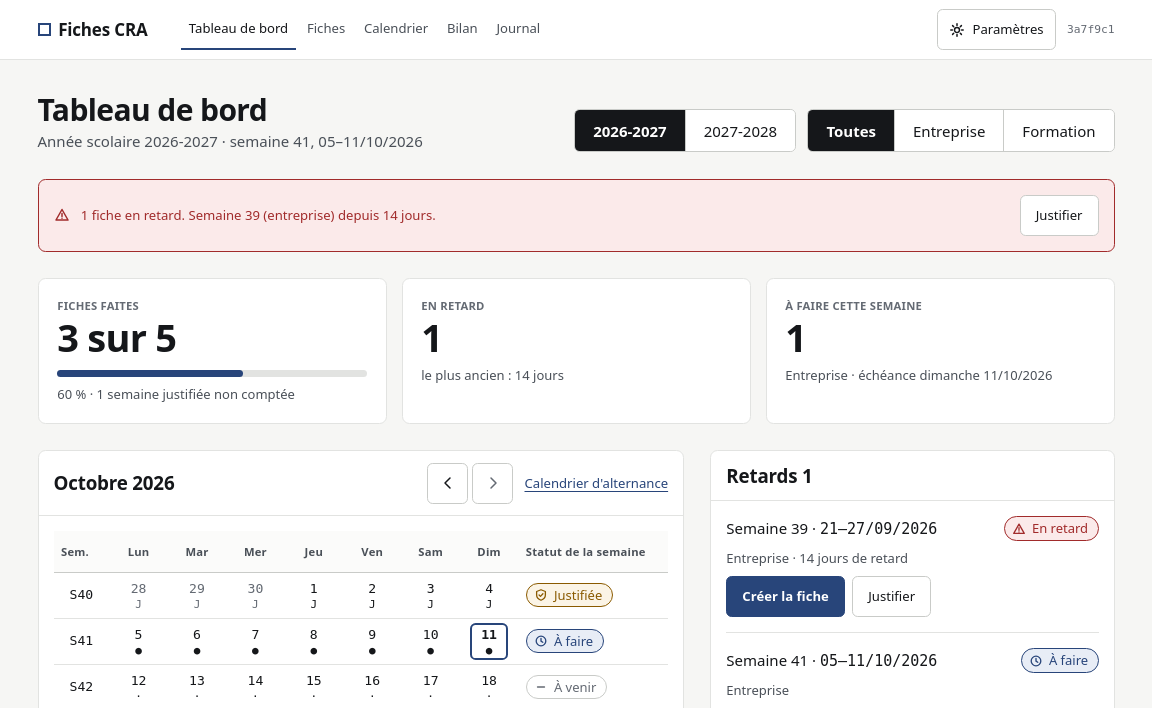
Test case: Tableau de bord › le dialogue de justification se ferme avec Échap et rend le focus
This screenshot has width=1152, height=708.
Step 1. Click the button "Justifier" in the row of "jours." → (1059,215), box [1020,195,1098,236]
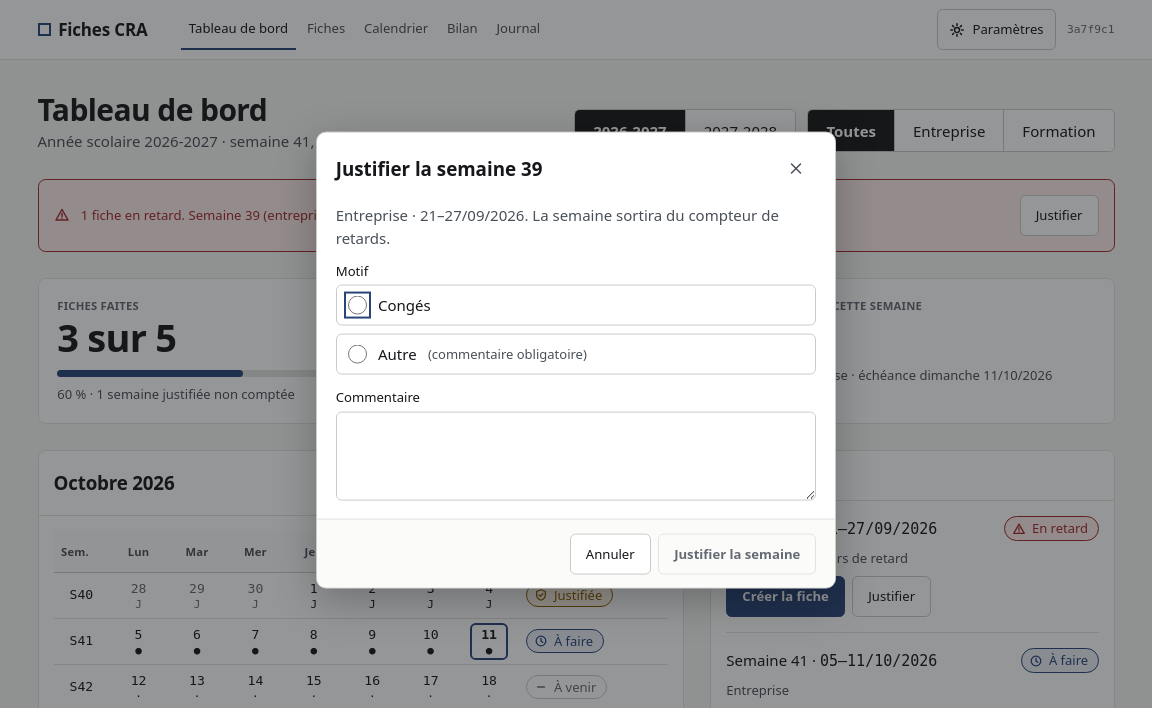
Result: the dialog "Justifier la semaine 39" is shown at [316,132,836,588]
Step 2. Press Escape
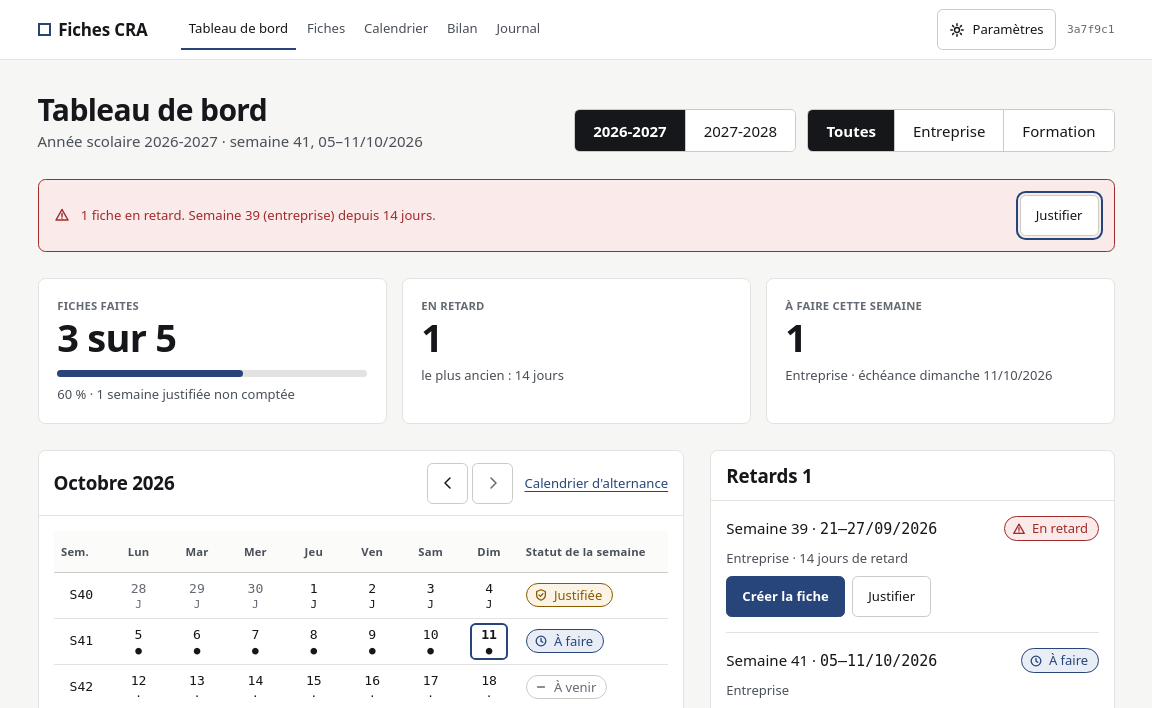
Result: the dialog is gone
